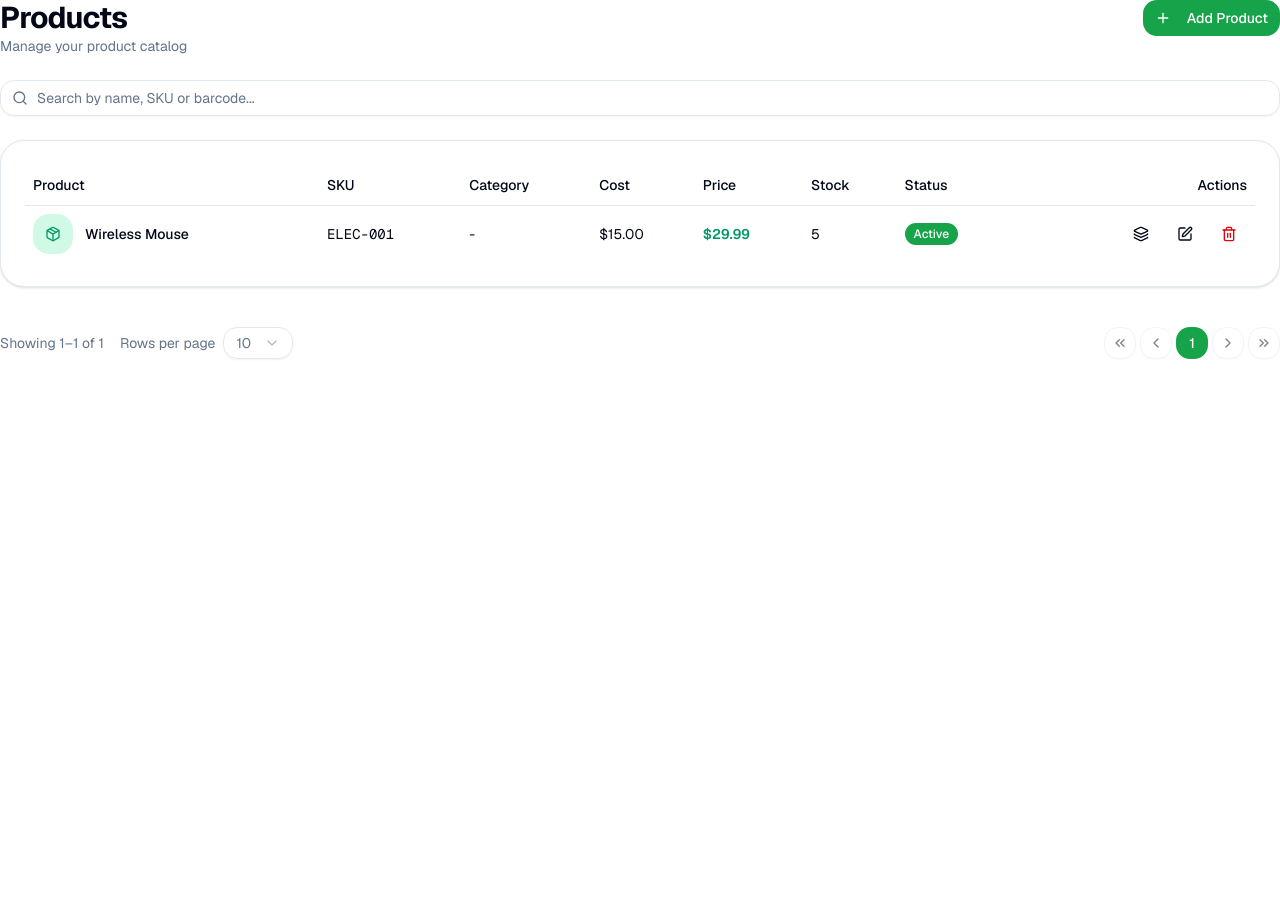
Scenario: product form validation › submitting an empty form shows readable errors and sends nothing
The width and height of the screenshot is (1280, 900).
Click the button "Add Product". click: [1211, 18]
box: [1143,0,1279,36]
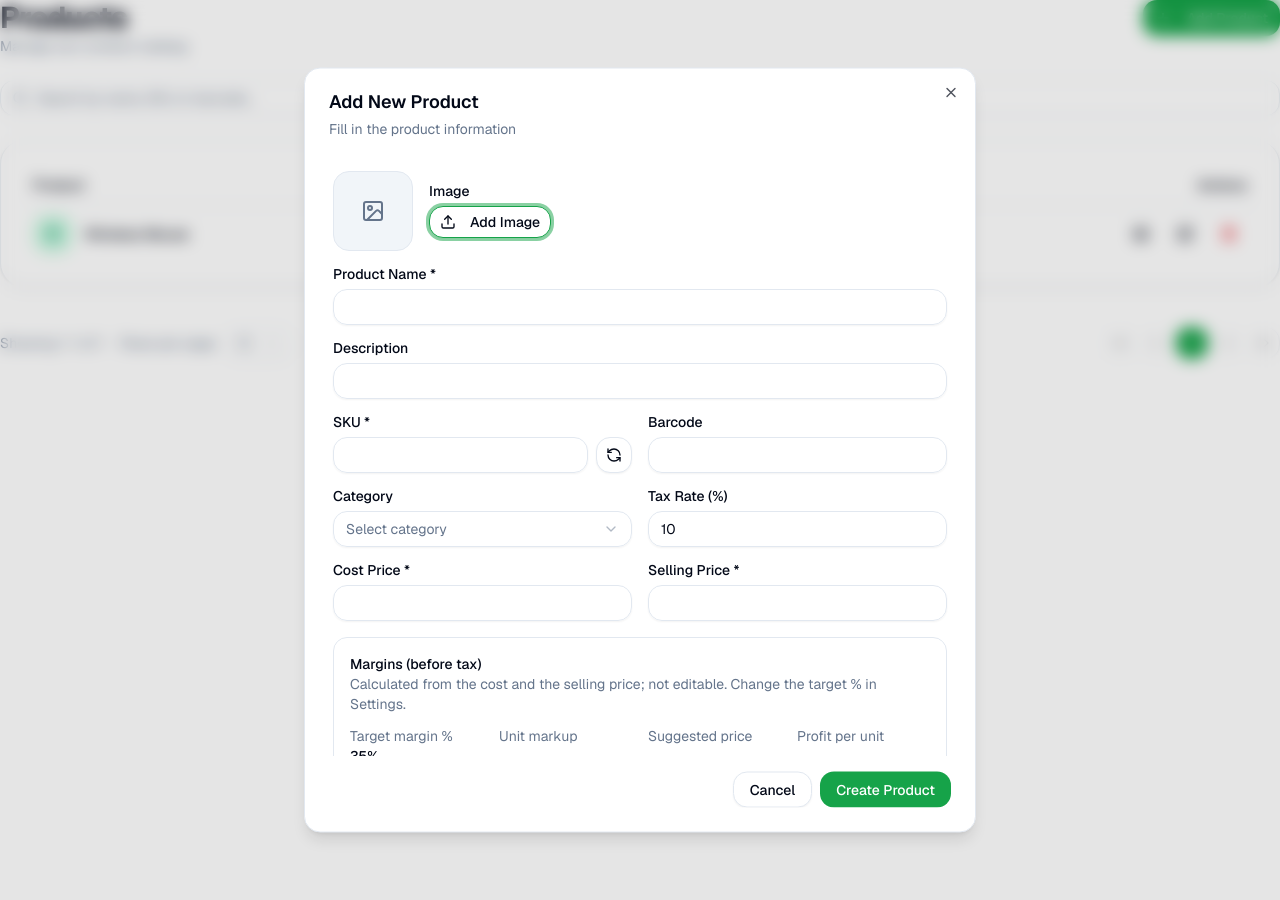
Click the button "Create Product". click: [886, 790]
box: [820,772,951,808]
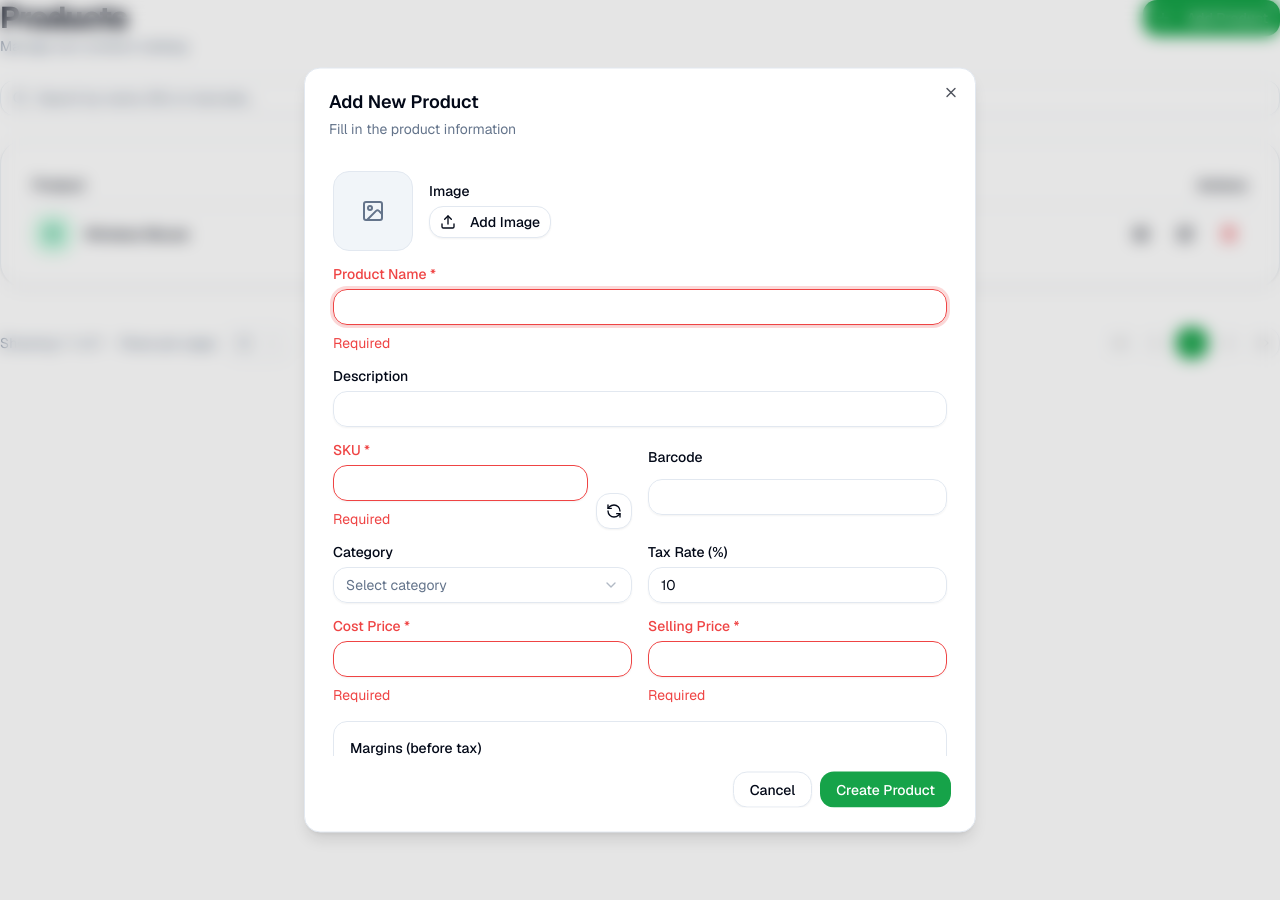
Result: the text "Required" is shown 4 times at [333,334,390,352]; [333,510,390,528]; [333,686,390,704]; [648,686,705,704]
